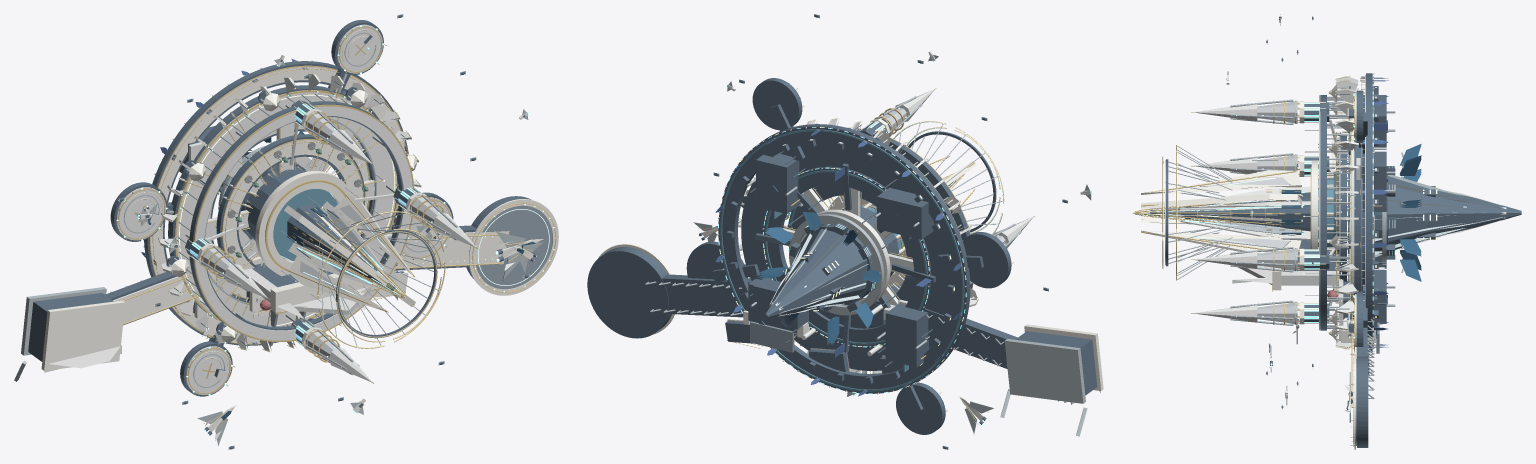
Rendered from orbital_citadel_v2_detailed.glb.
3 renders of one model, left to right at view 1: azimuth 30°, elevation 25°; view 2: azimuth 150°, elevation 25°; view 3: azimuth 270°, elevation 25°, orthographic. The views are drawn at different scales.
Parts seen in each view (by area): view 1: 04 - Orbital promenade | ceramic_white, 34 - Port-side multi-story hangar | porcelain, 04 - Orbital promenade | dark_metal, 17 - Terraced promenade 3 | porcelain, 33 - Flagship docking terrace | deck, 21 - Gothic spire winglets | porcelain, 17 - Terraced promenade 1 | porcelain, 02 - Central atrium | porcelain, 17 - Crown buttresses | ceramic_white, 17 - Terraced promenade 3 | dark_metal, 05 - Skybridges | ceramic_white, 06 - Watchtowers | ceramic_white (+38 smaller); view 2: 17 - Terraced promenade 3 | dark_metal, 09 - Hangar complexes | dark_metal, 04 - Orbital promenade | dark_metal, 33 - Flagship docking terrace | dark_metal, 01 - Suspended keel | dark_metal, 34 - Port-side multi-story hangar | steel, 17 - Terraced promenade 2 | dark_metal, 32 - Starboard grand pier | dark_metal, 08 - Docking pad 02 | dark_metal, 08 - Docking pad 03 | dark_metal, 32 - Port promenade bridge | dark_metal, 08 - Docking pad 04 | dark_metal (+22 smaller); view 3: 01 - Suspended keel | dark_metal, 21 - Gothic spire winglets | porcelain, 04 - Orbital promenade | dark_metal, 22 - Sentinel tower details | porcelain_shadow, 06 - Watchtowers | ceramic_white, 17 - Crown buttresses | ceramic_white, 03 - Skyward cathedral spire | dark_metal, 09 - Hangar complexes | dark_metal, 17 - Terraced promenade 3 | dark_metal, 06 - Watchtowers | steel, 28 - Reactor radiators and engineering | solar, 03 - Skyward cathedral spire | ceramic_white (+27 smaller).
Boxes of the visible parts, x1,y1,x2,y2 form: 04 - Orbital promenade | ceramic_white: (174,92,412,340); 34 - Port-side multi-story hangar | porcelain: (41,300,125,370); 04 - Orbital promenade | dark_metal: (168,85,403,337); 17 - Terraced promenade 3 | porcelain: (150,66,406,343); 33 - Flagship docking terrace | deck: (476,205,552,289); 21 - Gothic spire winglets | porcelain: (284,195,415,312); 17 - Terraced promenade 1 | porcelain: (223,140,363,269); 02 - Central atrium | porcelain: (255,171,355,276); 17 - Crown buttresses | ceramic_white: (158,74,421,351); 17 - Terraced promenade 3 | dark_metal: (144,61,408,345); 05 - Skybridges | ceramic_white: (190,121,393,319); 06 - Watchtowers | ceramic_white: (225,129,475,381); 17 - Terraced promenade 3 | dark_metal: (718,124,970,393); 09 - Hangar complexes | dark_metal: (753,153,933,367); 04 - Orbital promenade | dark_metal: (741,128,972,370); 33 - Flagship docking terrace | dark_metal: (587,247,671,338); 01 - Suspended keel | dark_metal: (764,229,867,317); 34 - Port-side multi-story hangar | steel: (1000,339,1087,436); 17 - Terraced promenade 2 | dark_metal: (763,166,931,346); 32 - Starboard grand pier | dark_metal: (662,274,751,317); 08 - Docking pad 02 | dark_metal: (937,232,1011,288); 08 - Docking pad 03 | dark_metal: (752,78,805,160); 32 - Port promenade bridge | dark_metal: (923,308,1017,368); 08 - Docking pad 04 | dark_metal: (896,382,945,434); 01 - Suspended keel | dark_metal: (1388,176,1521,249); 21 - Gothic spire winglets | porcelain: (1141,170,1301,254); 04 - Orbital promenade | dark_metal: (1320,95,1362,330); 22 - Sentinel tower details | porcelain_shadow: (1257,100,1297,324); 06 - Watchtowers | ceramic_white: (1195,104,1257,322); 17 - Crown buttresses | ceramic_white: (1335,76,1358,349); 03 - Skyward cathedral spire | dark_metal: (1150,192,1310,231); 09 - Hangar complexes | dark_metal: (1360,95,1386,322); 17 - Terraced promenade 3 | dark_metal: (1366,73,1372,352); 06 - Watchtowers | steel: (1230,99,1293,325); 28 - Reactor radiators and engineering | solar: (1399,144,1421,281); 03 - Skyward cathedral spire | ceramic_white: (1180,186,1310,240).
Bounding box in the file's own units: 259 × 192 × 179.
